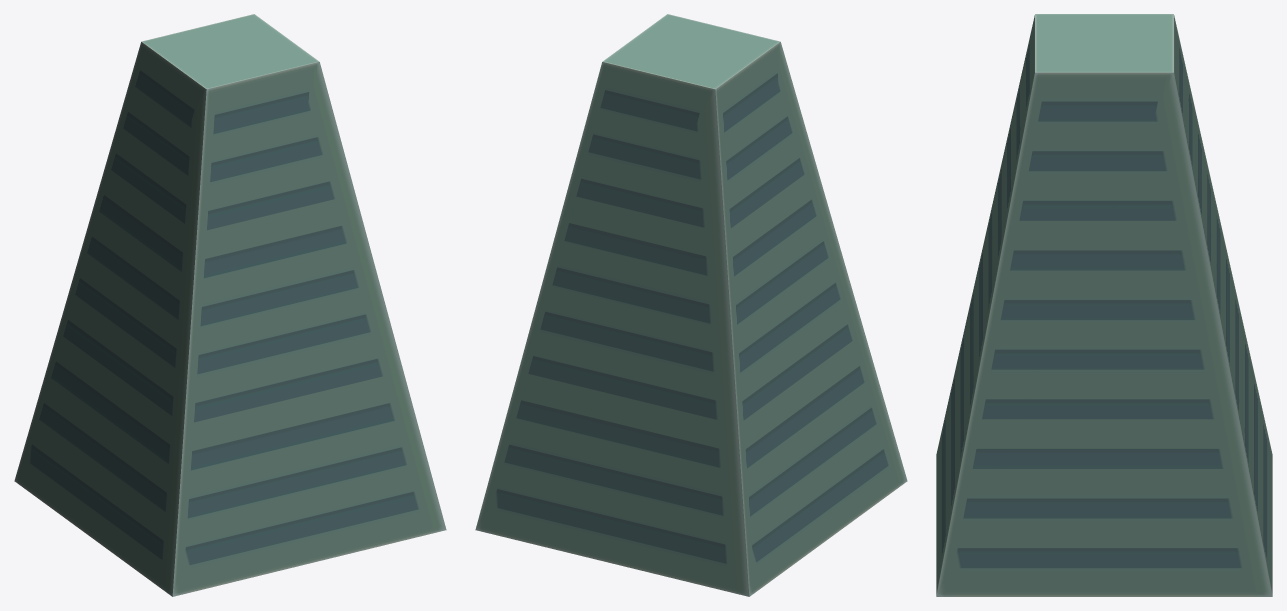
The model's file is Skyscraper_B1.fbx.
The picture shows the model from 3 angles, left to right: view 1: azimuth 30°, elevation 25°; view 2: azimuth 150°, elevation 25°; view 3: azimuth 270°, elevation 25°; orthographic projection. The views are drawn at different scales.
Parts seen in each view (by area): view 1: Skyscraper_B1; view 2: Skyscraper_B1; view 3: Skyscraper_B1.
Part boxes in pixels (<box>): Skyscraper_B1: <box>14,14,446,596</box>; Skyscraper_B1: <box>475,14,907,596</box>; Skyscraper_B1: <box>936,14,1272,596</box>.
Size of the model in its own units: 0.7373 by 1.17 by 0.7373.
